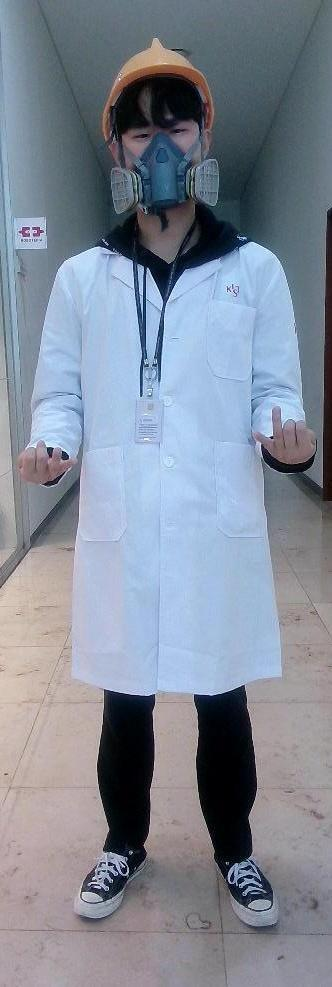lab_coat: (63, 254, 268, 710)
